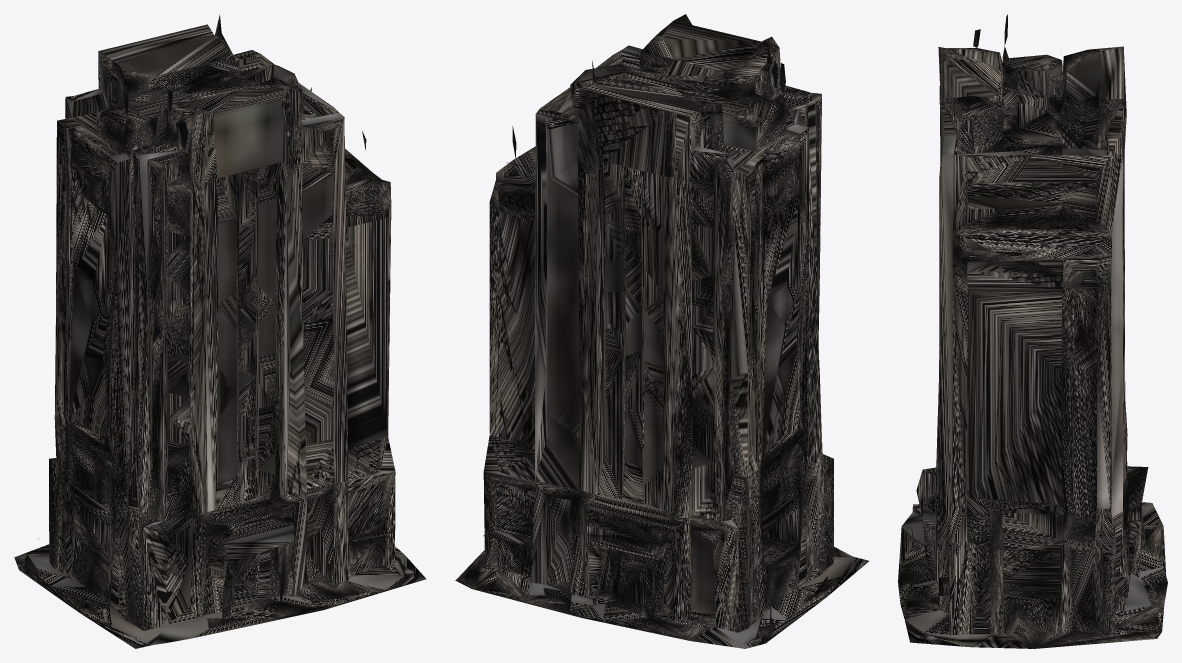
The model's file is bastida.glb.
3 views of the same model, side by side, from view 1: azimuth 30°, elevation 25°; view 2: azimuth 150°, elevation 25°; view 3: azimuth 270°, elevation 25° (orthographic). The views are drawn at different scales.
Parts seen in each view (by area): view 1: bastida; view 2: bastida; view 3: bastida.
Part boxes in pixels (x1,y1,x2,y2): bastida: (14, 14, 426, 648); bastida: (455, 14, 868, 648); bastida: (898, 14, 1167, 648).
Size of the model in its own units: 12.31 by 19.83 by 9.49.
1 material, 1 textured.
